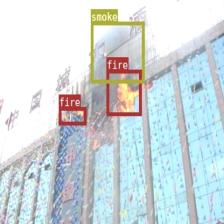fire: (106, 69, 141, 115), (58, 106, 86, 124)
smoke: (90, 21, 144, 83)
